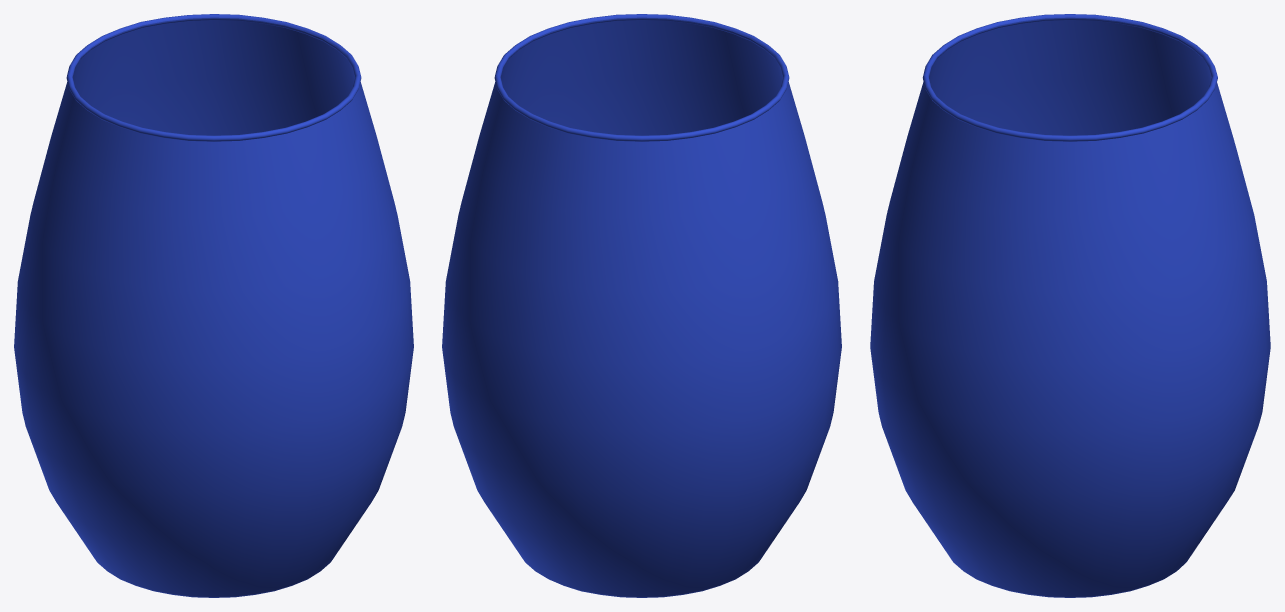
File: Glass_Generic_Double.FBX
The picture shows the model from 3 angles, left to right: view 1: azimuth 30°, elevation 25°; view 2: azimuth 150°, elevation 25°; view 3: azimuth 270°, elevation 25°; orthographic projection.
Parts seen in each view (by area): view 1: Line002, Object; view 2: Line002, Object; view 3: Line002, Object.
Part boxes in pixels (x1,y1,x2,y2): Line002: [14, 14, 413, 597]; Object: [72, 17, 355, 135]; Line002: [442, 14, 841, 597]; Object: [500, 17, 783, 135]; Line002: [870, 14, 1270, 597]; Object: [929, 17, 1211, 135].
Size of the model in its own units: 0.0986 by 0.1289 by 0.099.
